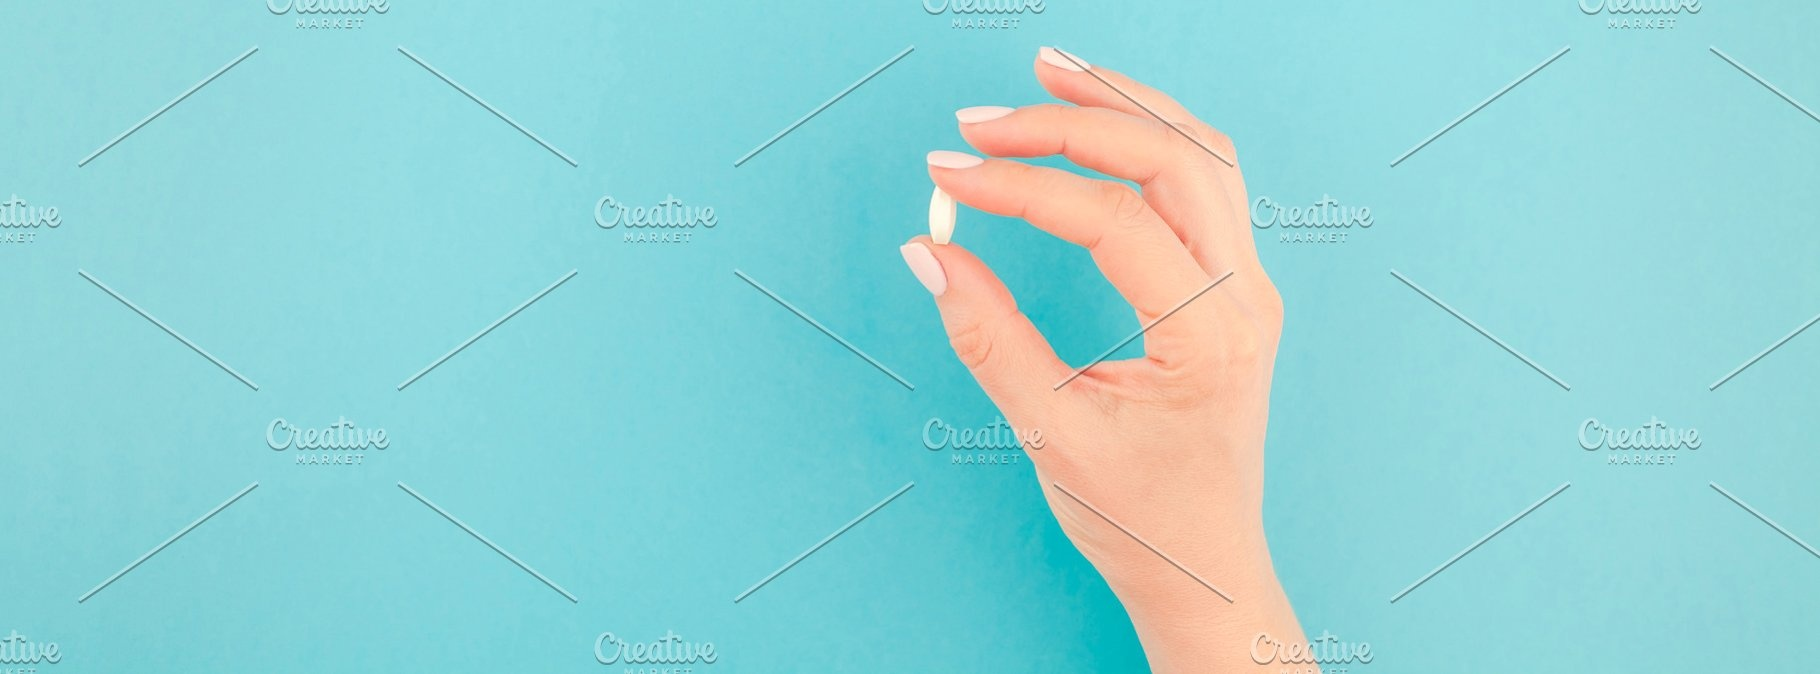pills: (924, 160, 981, 266)
